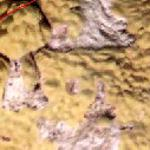alive: (2, 2, 147, 147)
